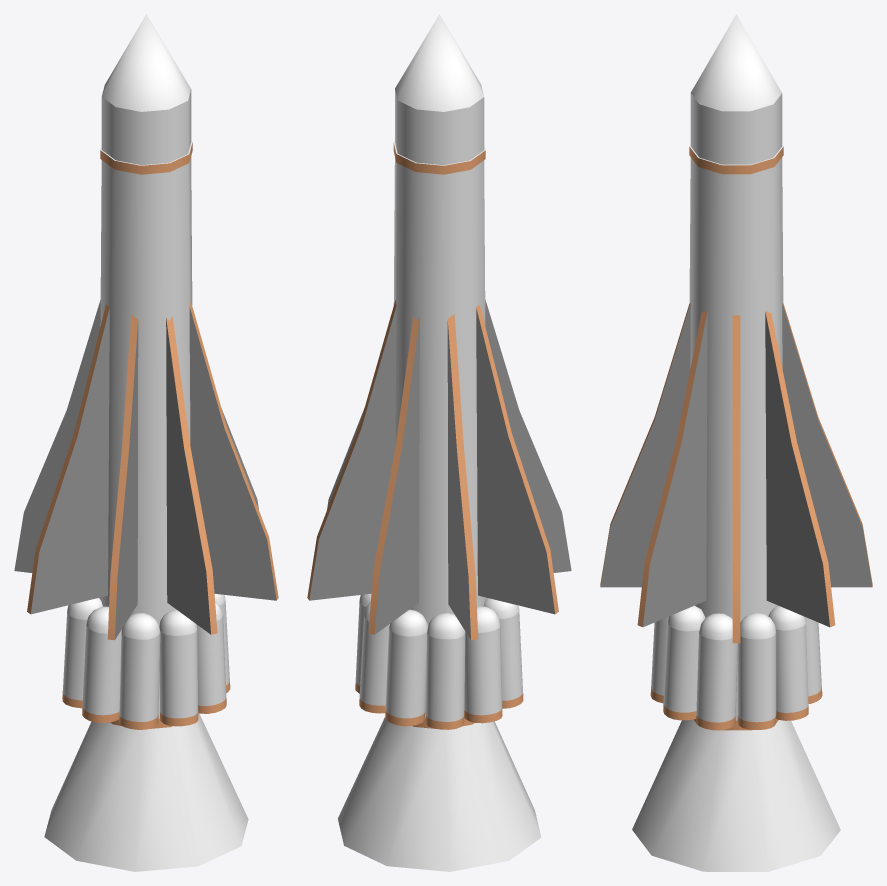
Rendered from rocket4.fbx.
3 views of the same model, side by side, from view 1: azimuth 30°, elevation 25°; view 2: azimuth 150°, elevation 25°; view 3: azimuth 270°, elevation 25° (orthographic).
Visible parts, largest first — view 1: pCube9; view 2: pCube9; view 3: pCube9.
Part boxes in pixels (x1=…): pCube9: x1=14, y1=14, x2=278, y2=871; pCube9: x1=307, y1=14, x2=571, y2=871; pCube9: x1=600, y1=14, x2=872, y2=871.
Size of the model in its own units: 37.8 by 125 by 37.8.
